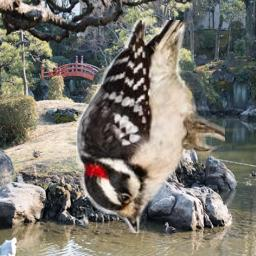Woodpecker: (76, 20, 225, 233)
